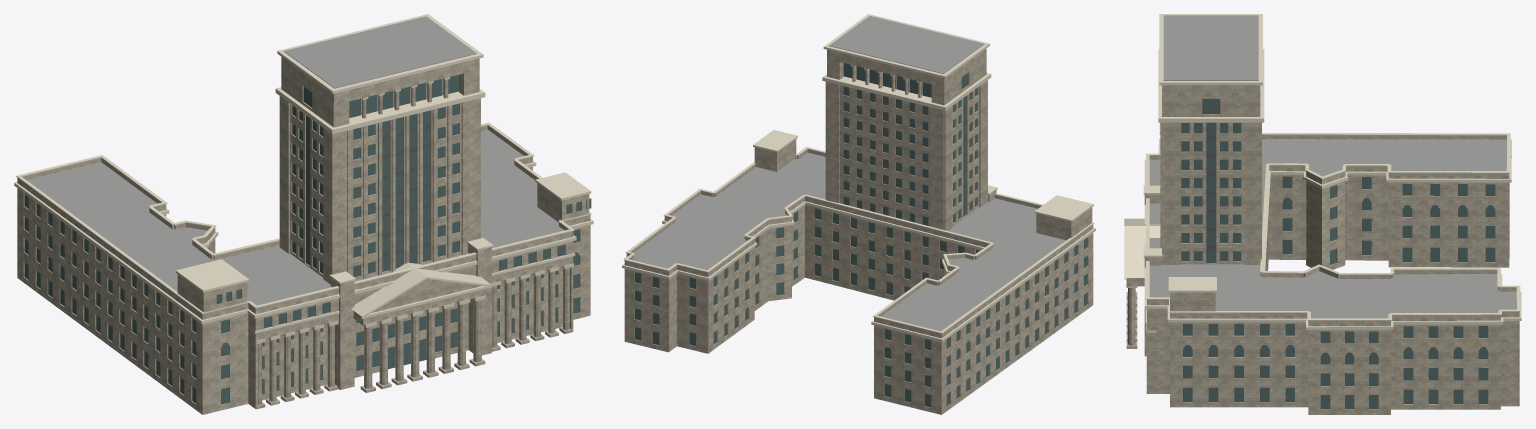
The picture shows the model from 3 angles, left to right: view 1: azimuth 30°, elevation 25°; view 2: azimuth 150°, elevation 25°; view 3: azimuth 270°, elevation 25°; orthographic projection. The views are drawn at different scales.
Visible parts, largest first — view 1: main__stone, main__roof, main__glass, main__trim, main__frame; view 2: main__stone, main__roof, main__glass, main__trim, main__frame; view 3: main__stone, main__roof, main__trim, main__glass, main__frame.
Boxes of the visible parts, <box> form: main__stone: <box>17,57,590,414</box>; main__roof: <box>26,16,564,305</box>; main__glass: <box>24,75,590,403</box>; main__trim: <box>14,14,593,343</box>; main__frame: <box>25,75,591,404</box>; main__stone: <box>624,48,1093,414</box>; main__roof: <box>632,16,1066,331</box>; main__glass: <box>634,63,1087,406</box>; main__trim: <box>622,14,1095,341</box>; main__frame: <box>635,63,1086,407</box>; main__stone: <box>1126,85,1519,414</box>; main__roof: <box>1149,15,1516,318</box>; main__trim: <box>1124,14,1521,332</box>; main__glass: <box>1181,99,1494,408</box>; main__frame: <box>1181,99,1495,409</box>.
Size of the model in its own units: 79.46 by 53.85 by 70.84.
Materials: 5 (1 with a texture image).
